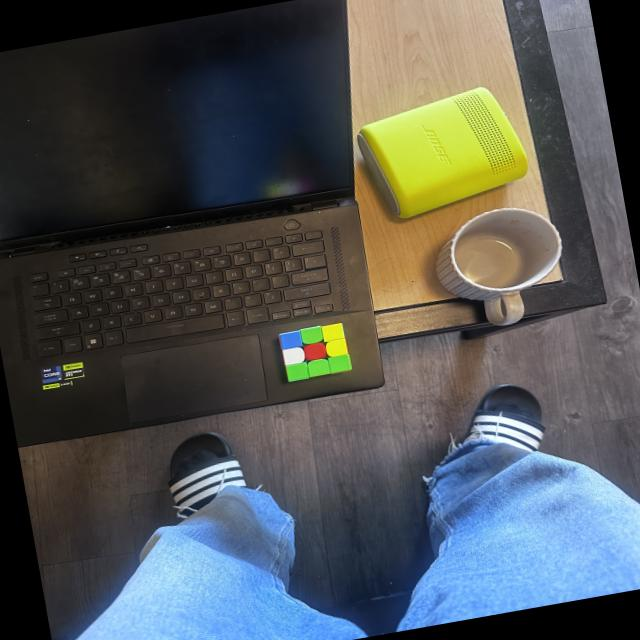sticker: (280, 344, 310, 366), (302, 340, 328, 362), (299, 324, 324, 345), (324, 337, 349, 358), (327, 353, 352, 374), (278, 330, 304, 350), (320, 322, 346, 342), (284, 361, 308, 382), (306, 357, 330, 378)
